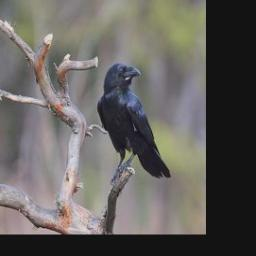Crow: (96, 61, 173, 183)
